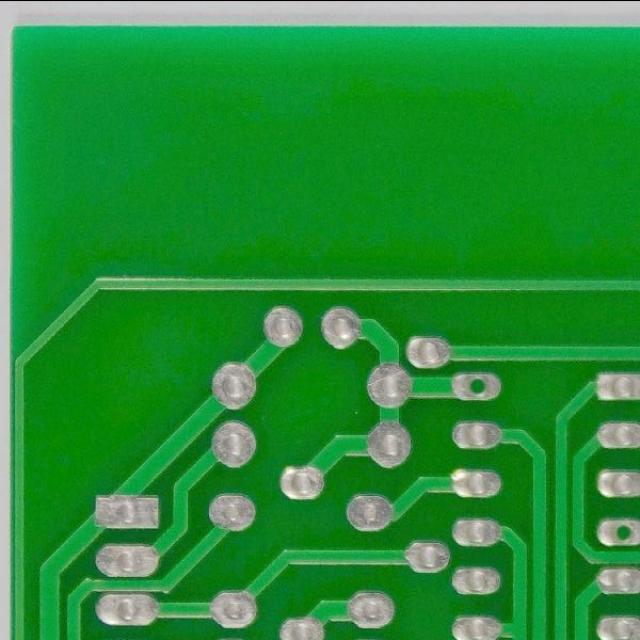missing_hole: (457, 369, 496, 403), (610, 518, 639, 548)
